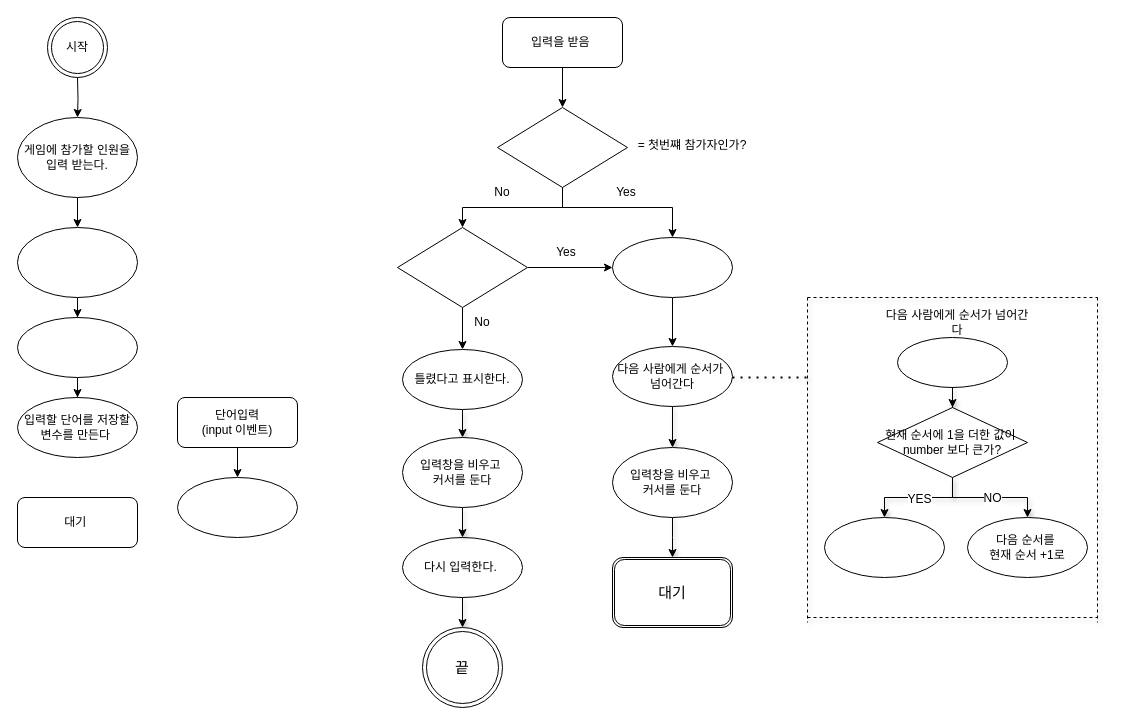
This 1122x725 diagram has some shape labels left out. Each missing label, with the centre of its shape:
"다음 순서를1로" goes at [884,547].
"입력한 단어가 올바른가? (한국어)" goes at [462,267].
"입력할 단어를 저장한다." goes at [237,507].
"제시어가 비어있는가?" goes at [562,147].
"제시어를 저장할 변수를 만든다" goes at [77,347].
"참가자가 입력한 단어가 제시어가 된다." goes at [672,267].
"참가자들은 순서를 정한다" goes at [77,262].
"현재 순서를 파악한다" goes at [952,362].
